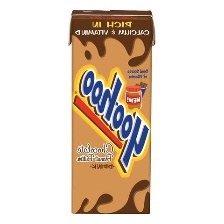carton: (59, 5, 159, 218)
